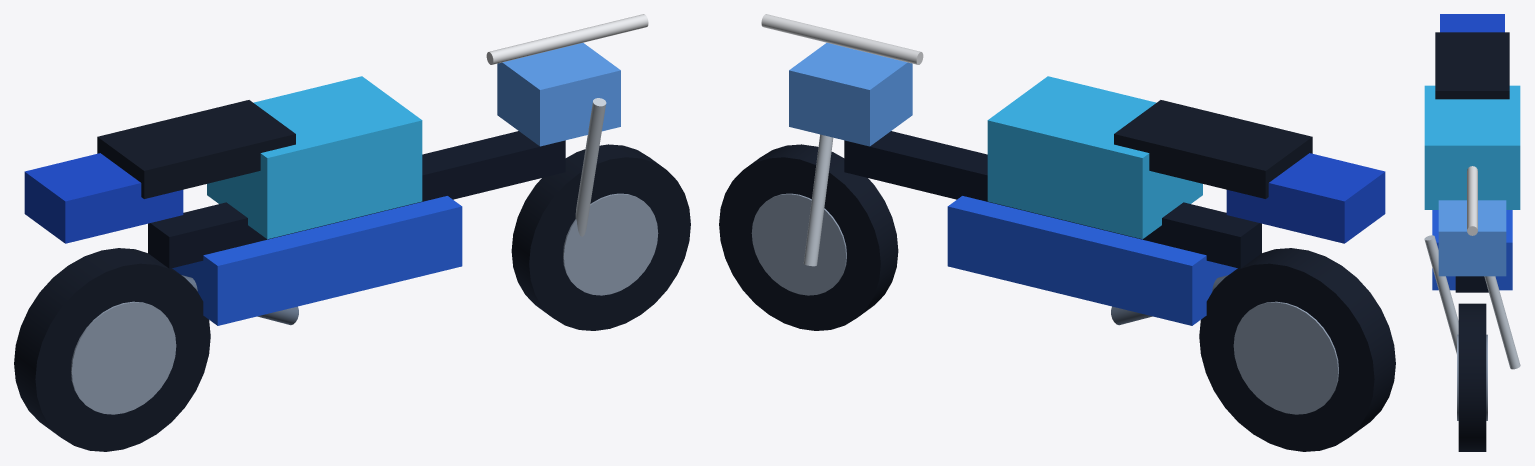
File: generic-sport-bike.glb
3 views of the same model, side by side, from view 1: azimuth 30°, elevation 25°; view 2: azimuth 150°, elevation 25°; view 3: azimuth 270°, elevation 25° (orthographic). The views are drawn at different scales.
Parts seen in each view (by area): view 1: fuel_tank, rear_wheel, lower_fairing, front_wheel, main_frame, seat, head, tail, rear_rim, front_rim, handle_bar, front_fork_left; view 2: fuel_tank, rear_wheel, lower_fairing, front_wheel, main_frame, seat, head, tail, rear_rim, front_rim, handle_bar, front_fork_right; view 3: fuel_tank, seat, head, front_wheel, tail, lower_fairing, front_fork_left, front_fork_right, handle_bar, main_frame, front_rim.
Part boxes in pixels (bbox=[...]): fuel_tank: bbox=[207, 76, 422, 239]; rear_wheel: bbox=[14, 248, 210, 451]; lower_fairing: bbox=[172, 196, 462, 325]; front_wheel: bbox=[511, 144, 690, 330]; main_frame: bbox=[148, 131, 565, 268]; seat: bbox=[97, 100, 295, 198]; head: bbox=[497, 43, 620, 146]; tail: bbox=[24, 153, 183, 243]; rear_rim: bbox=[71, 301, 176, 414]; front_rim: bbox=[563, 193, 658, 295]; handle_bar: bbox=[486, 14, 648, 64]; front_fork_left: bbox=[575, 98, 606, 236]; fuel_tank: bbox=[987, 76, 1202, 239]; rear_wheel: bbox=[1199, 248, 1395, 451]; lower_fairing: bbox=[947, 196, 1237, 325]; front_wheel: bbox=[719, 144, 898, 330]; main_frame: bbox=[844, 131, 1261, 268]; seat: bbox=[1114, 100, 1312, 198]; head: bbox=[789, 43, 912, 146]; tail: bbox=[1226, 153, 1385, 243]; rear_rim: bbox=[1233, 301, 1338, 414]; front_rim: bbox=[751, 193, 846, 295]; handle_bar: bbox=[761, 14, 923, 64]; front_fork_right: bbox=[803, 134, 833, 266]; fuel_tank: bbox=[1424, 85, 1520, 209]; seat: bbox=[1435, 32, 1509, 99]; head: bbox=[1438, 200, 1506, 276]; front_wheel: bbox=[1458, 303, 1486, 451]; tail: bbox=[1440, 14, 1504, 32]; lower_fairing: bbox=[1432, 210, 1512, 290]; front_fork_left: bbox=[1424, 235, 1458, 353]; front_fork_right: bbox=[1484, 276, 1520, 369]; handle_bar: bbox=[1467, 166, 1477, 235]; main_frame: bbox=[1455, 276, 1488, 292]; front_rim: bbox=[1457, 334, 1487, 420].
Size of the model in its own units: 4.87 by 2.11 by 0.7786.
